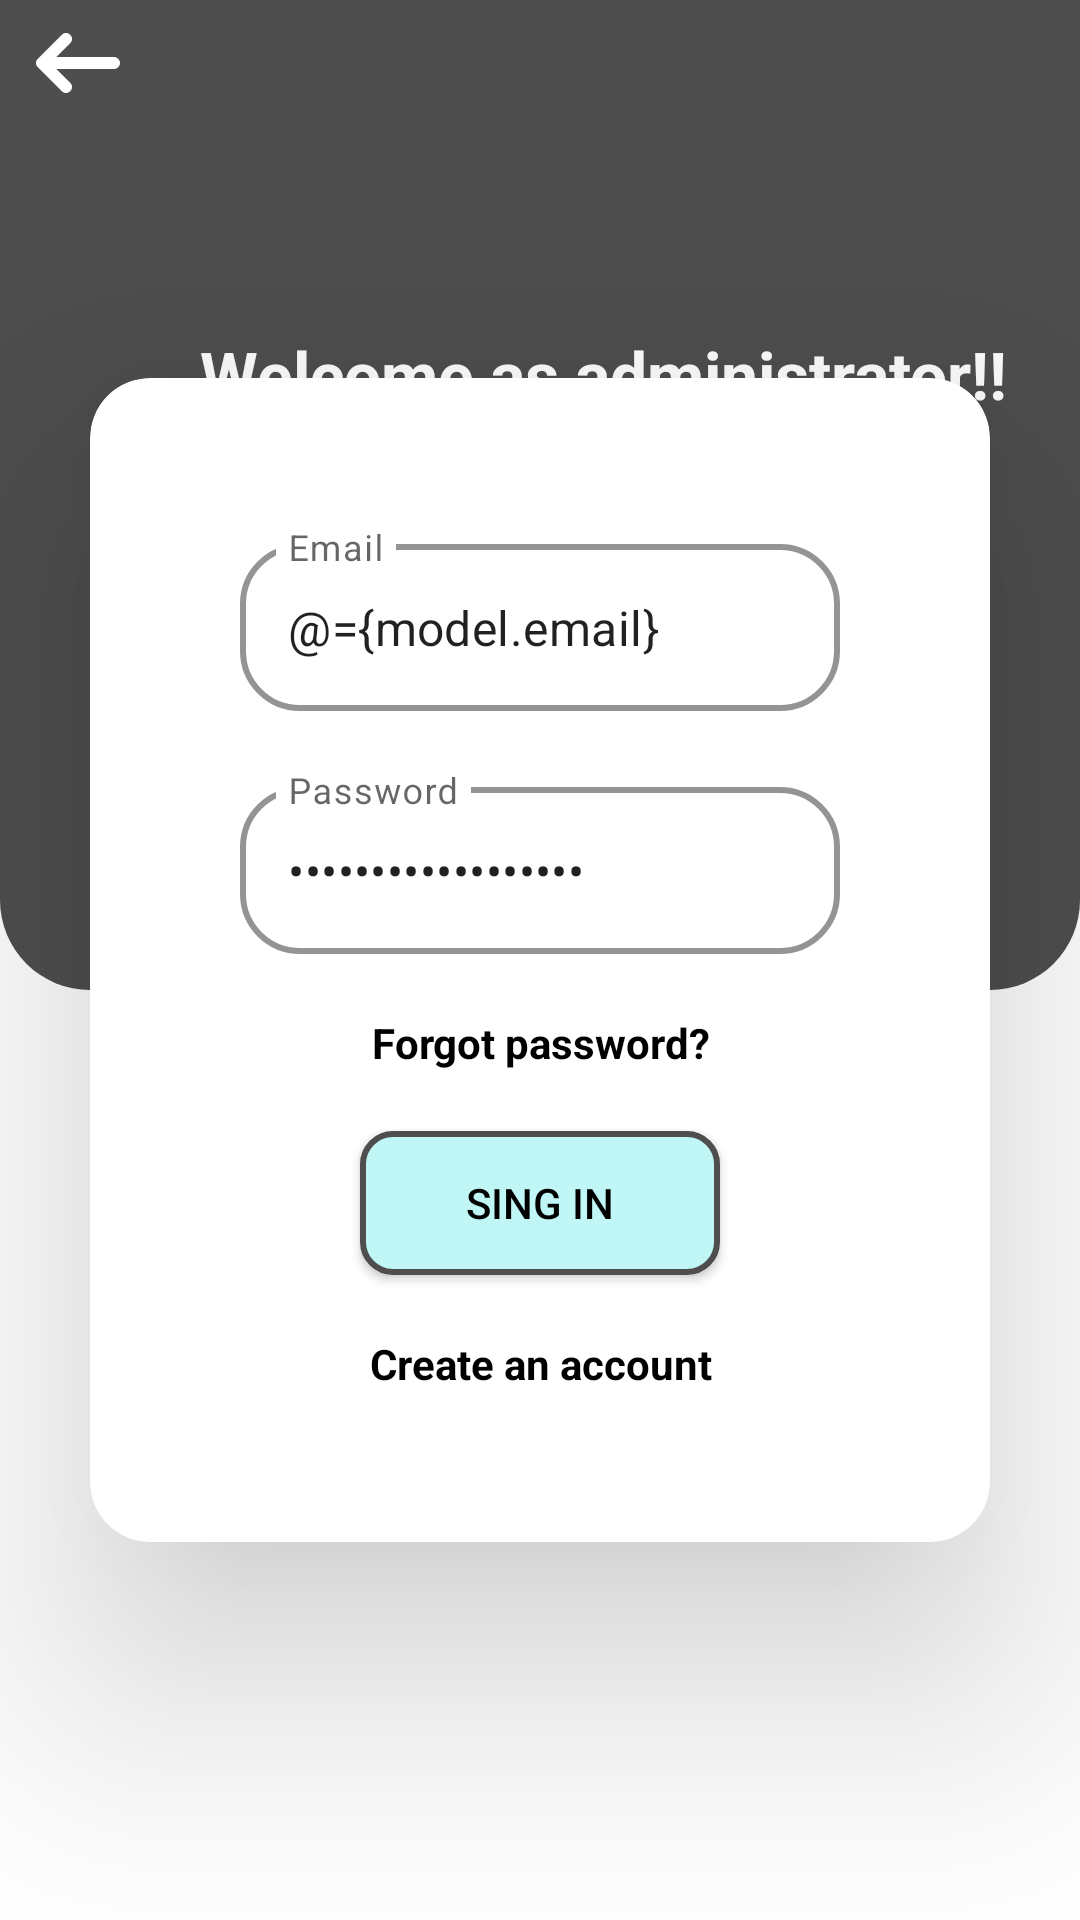

Screen size 1080 × 1920. Icon name, then its box in pixels as BBox(x1, y1, x2, y2):
arrow back: BBox(36, 33, 120, 93)
